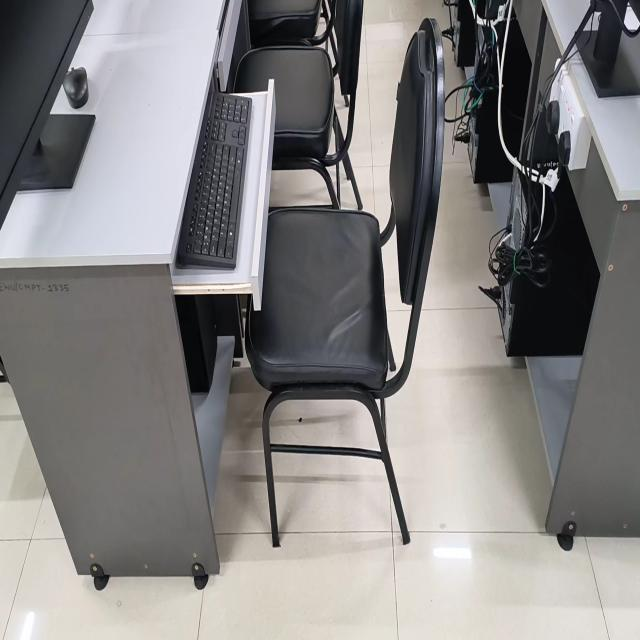Chair: (246, 19, 445, 547), (235, 0, 363, 208), (248, 0, 322, 48)
Cpu: (492, 158, 602, 357), (464, 19, 532, 183), (175, 295, 217, 392), (452, 0, 481, 67)
Keyboard: (176, 93, 252, 269)
Monitor: (0, 0, 94, 228)
Mouse: (63, 68, 88, 108)
